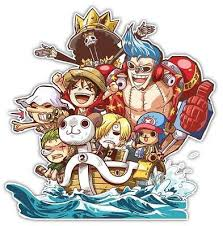chopper: (133, 112, 175, 145)
luffy: (61, 67, 108, 108)
